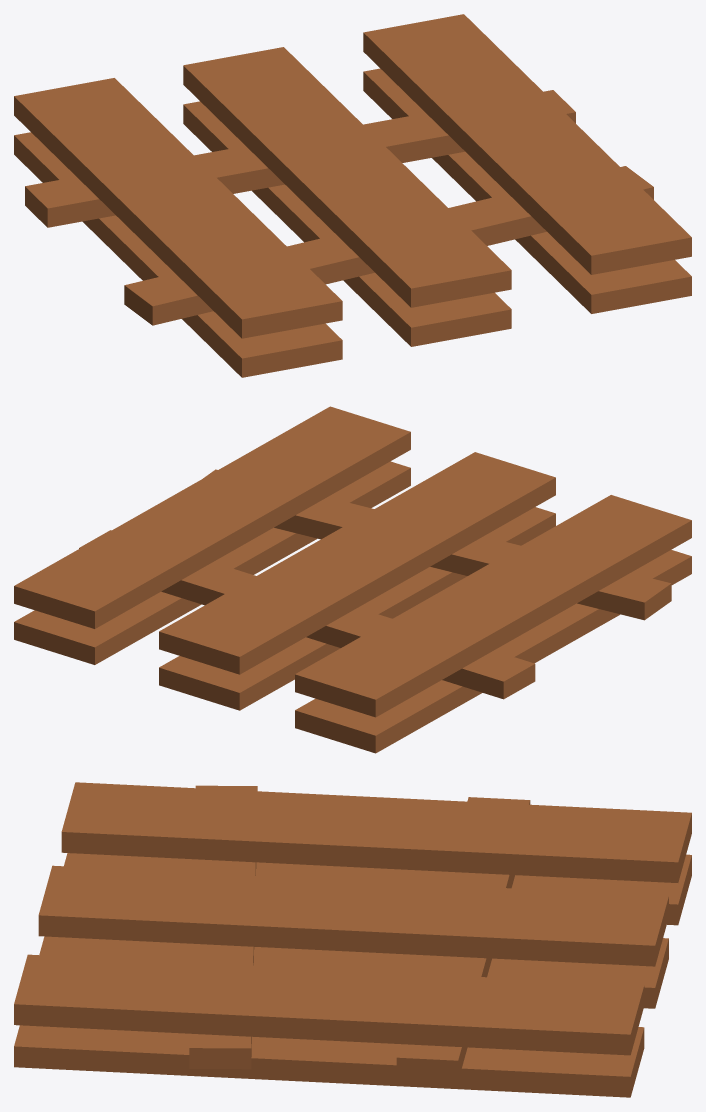
File: Wooden_Palette.fbx
3 views of the same model, one above another, from view 1: azimuth 30°, elevation 25°; view 2: azimuth 150°, elevation 25°; view 3: azimuth 270°, elevation 25° (orthographic). The views are drawn at different scales.
Parts seen in each view (by area): view 1: Wooden_Palette; view 2: Wooden_Palette; view 3: Wooden_Palette.
Boxes of the visible parts, x1,y1,x2,y2 form: Wooden_Palette: (14, 14, 691, 377); Wooden_Palette: (14, 406, 691, 753); Wooden_Palette: (14, 782, 691, 1097).
Bounding box in the file's own units: 319 × 34.09 × 332.
